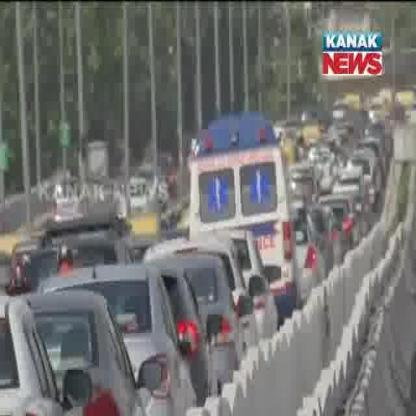priority: (187, 107, 291, 239)
